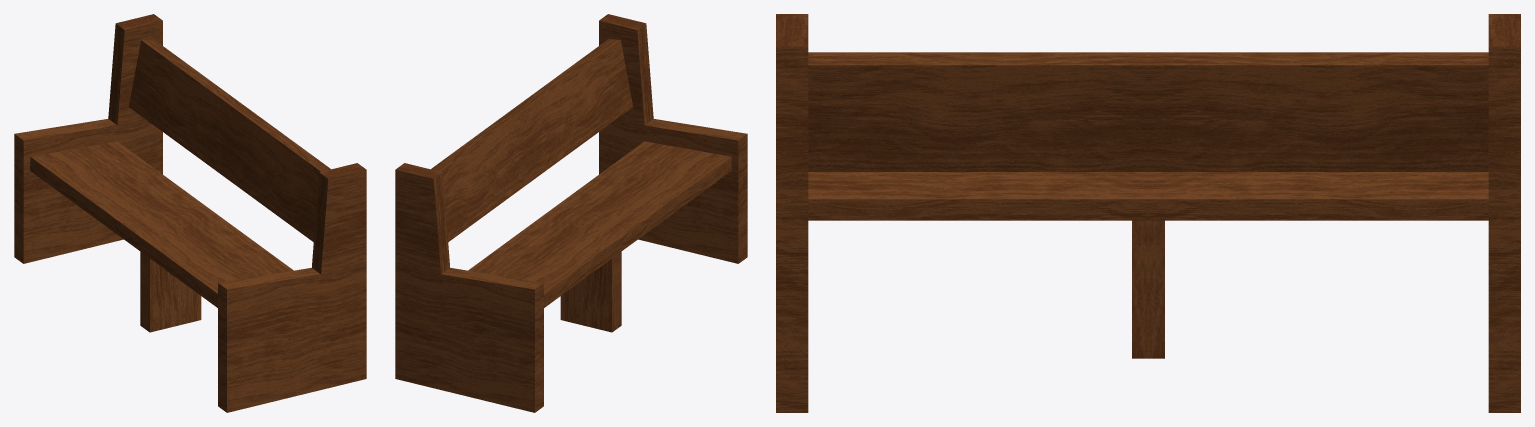
The model's file is oldwest_13.obj.
3 views of the same model, side by side, from view 1: azimuth 30°, elevation 25°; view 2: azimuth 150°, elevation 25°; view 3: azimuth 270°, elevation 25° (orthographic). The views are drawn at different scales.
Parts seen in each view (by area): view 1: Cube.185; view 2: Cube.185; view 3: Cube.185.
Part boxes in pixels (<box>): Cube.185: <box>14,14,366,412</box>; Cube.185: <box>395,14,747,412</box>; Cube.185: <box>776,14,1520,412</box>.
Bounding box in the file's own units: 0.5507 × 0.7888 × 1.45.
1 material, 1 textured.
